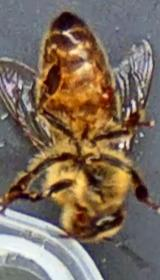varroa_mite: (92, 82, 118, 116)
